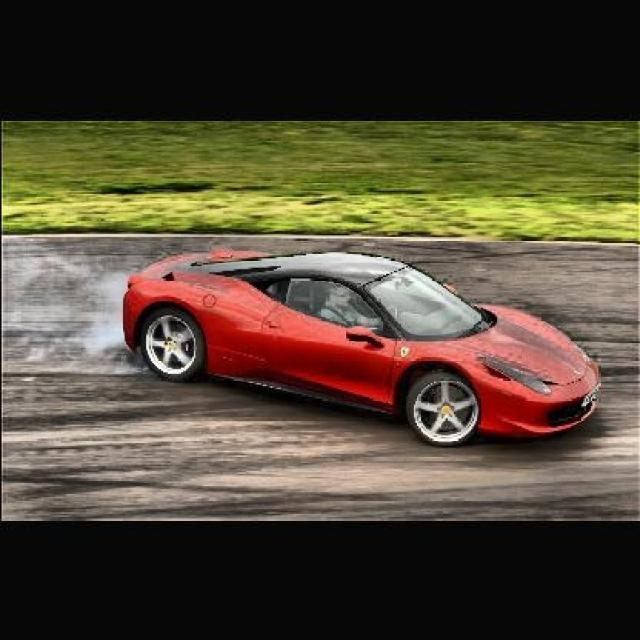red: (112, 236, 589, 440)
